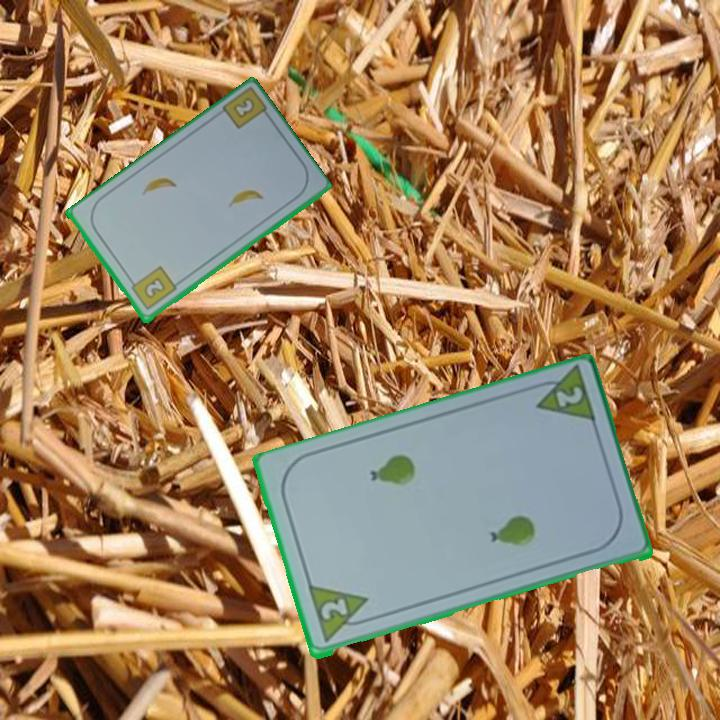2b: (125, 263, 179, 313), (229, 94, 258, 122)
2p: (305, 583, 376, 647), (552, 383, 586, 411)
